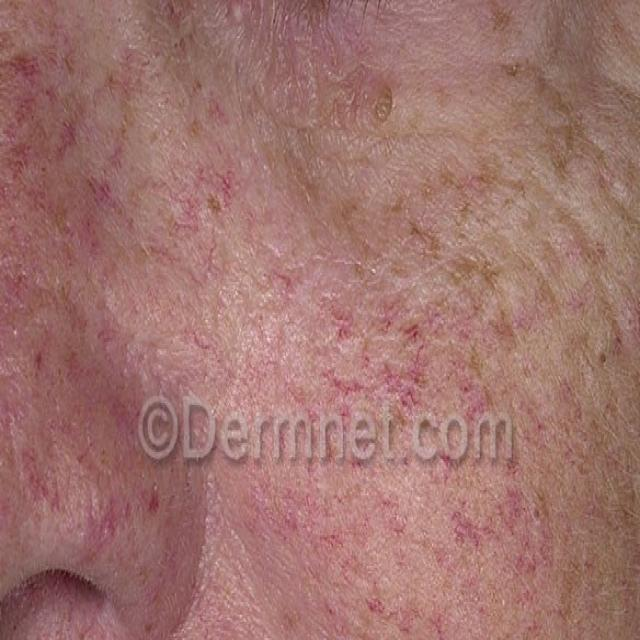Vascular Tumors: (0, 24, 480, 382), (304, 475, 620, 640)
